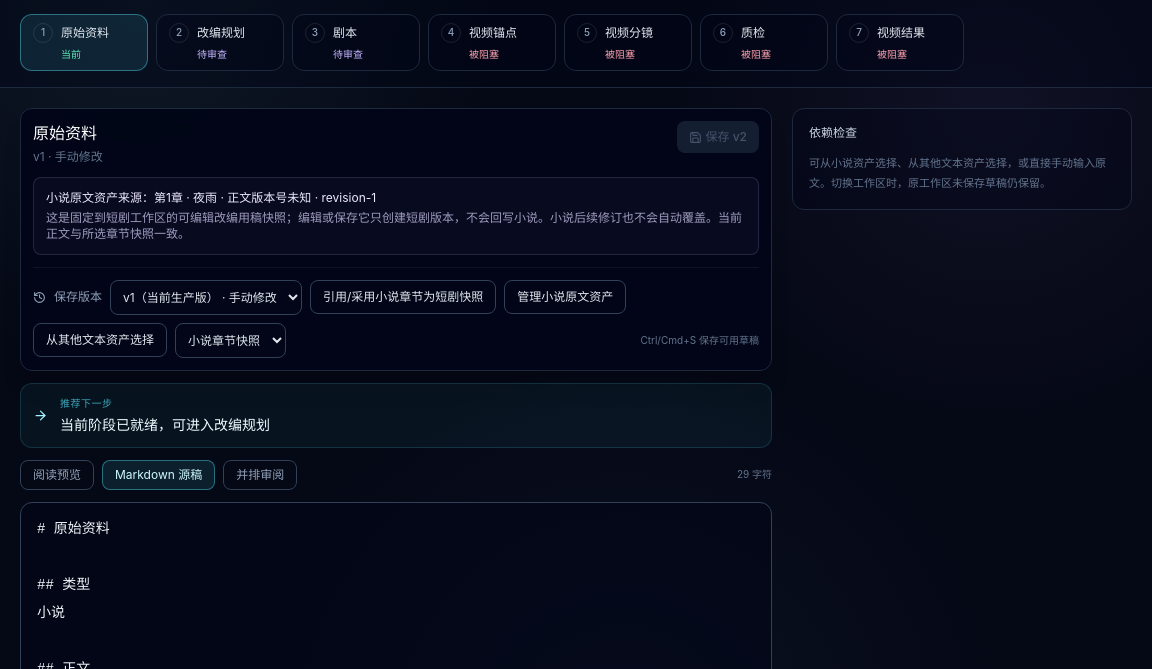
VideoMarkdownWorkspace editing loop › optimizes and directly saves an existing downstream script with the new director as its parent
This screenshot has width=1152, height=669.
Click the tab "2 改编规划 待审查" at (220,42), box [156, 14, 284, 70]
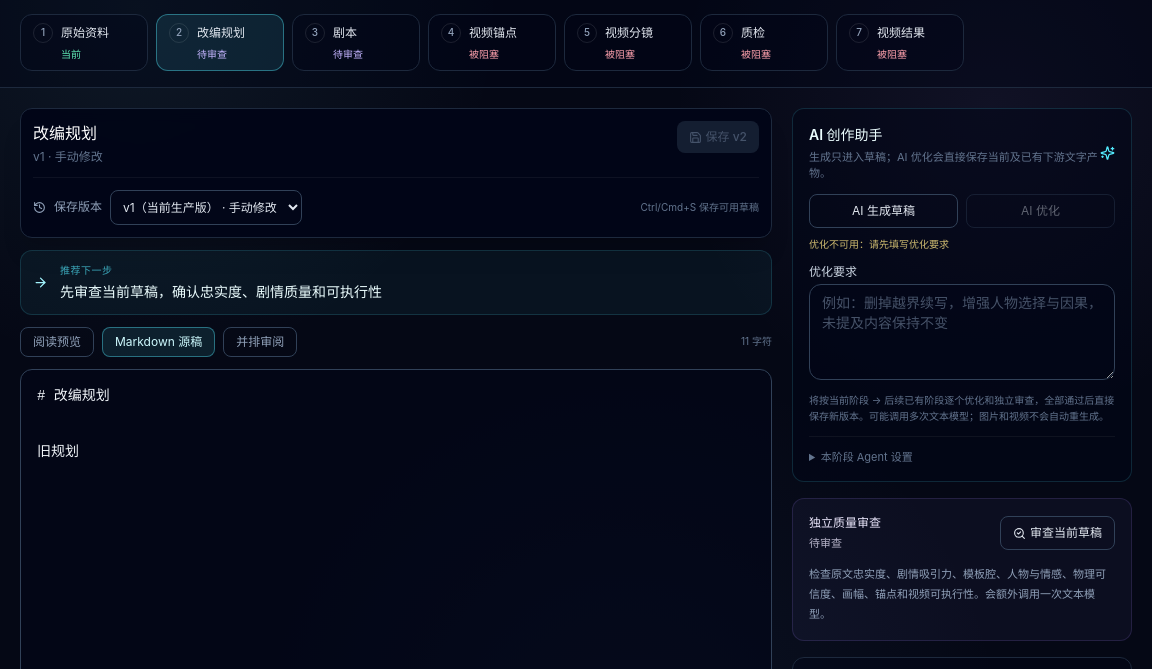
Type "加强选择与后果" into the text box named "AI 优化要求" at (962,332), box [809, 284, 1115, 380]
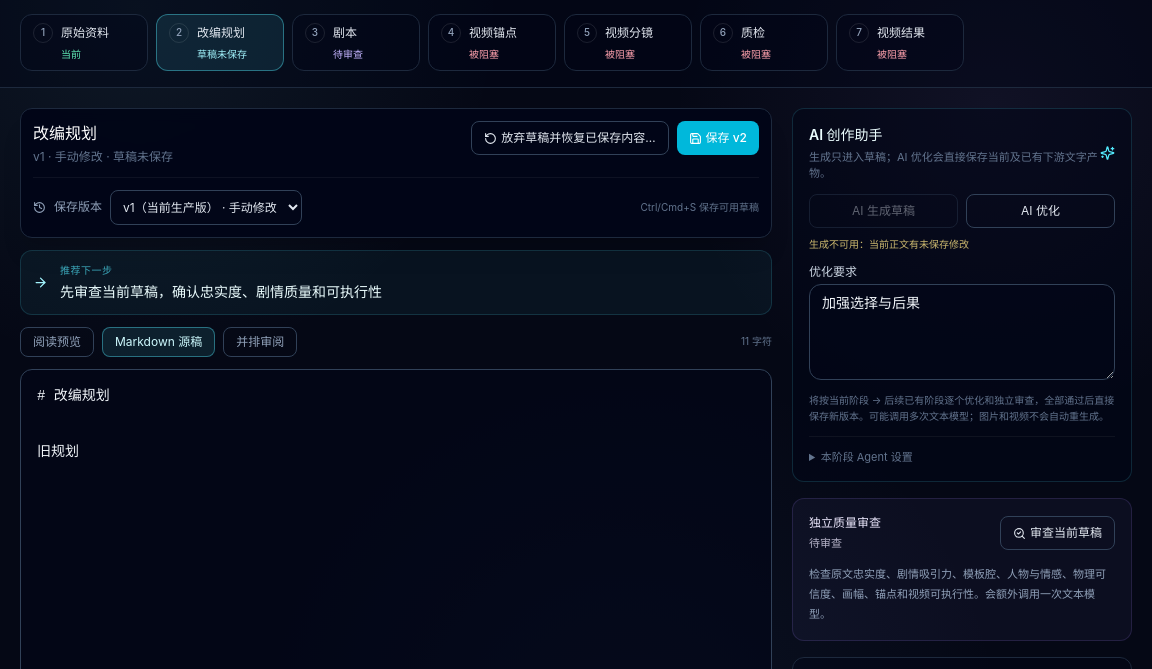
Click the button "AI 优化" at (1040,210), box [966, 194, 1115, 228]
(page scrolled)
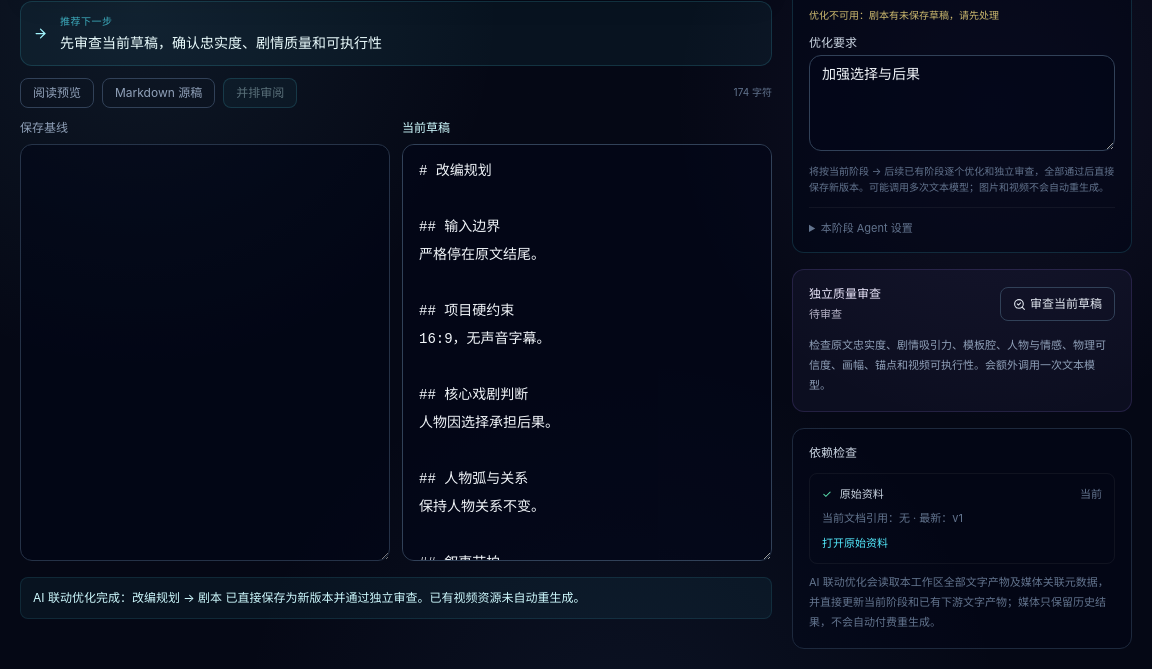
Result: the message shows "改编规划 → 剧本" at [33, 590, 586, 605]
